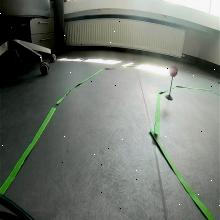stop: (168, 64, 178, 78)
